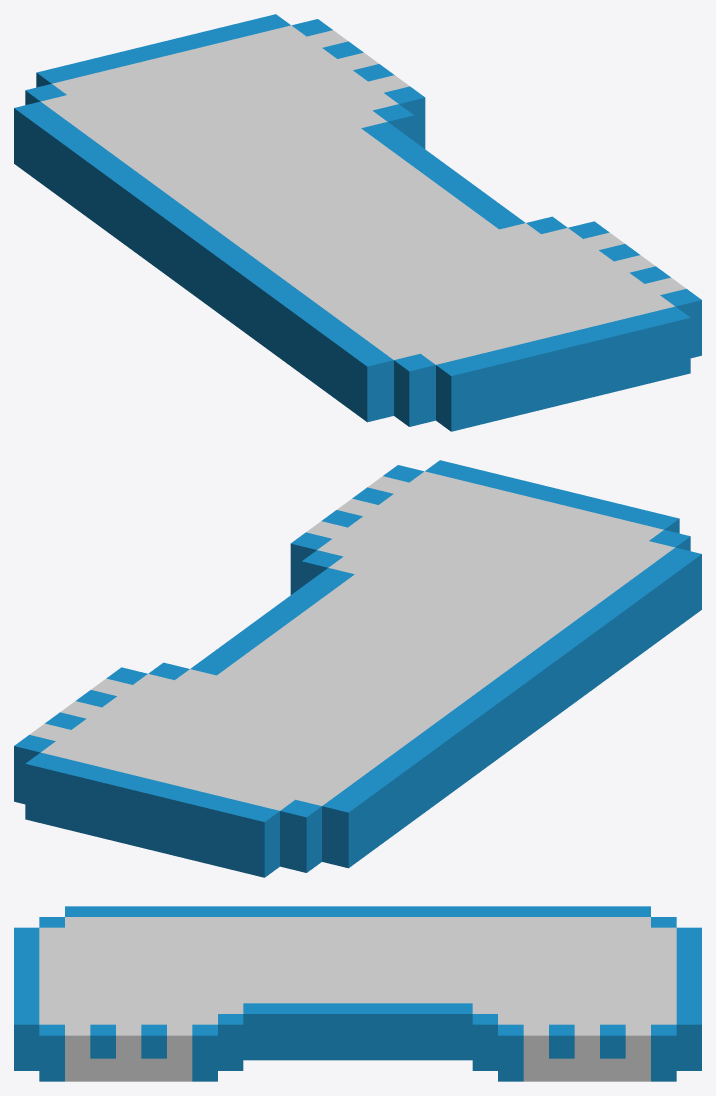
Rendered from PlatformAndBack.fbx.
The picture shows the model from 3 angles, top to bottom: view 1: azimuth 30°, elevation 25°; view 2: azimuth 150°, elevation 25°; view 3: azimuth 270°, elevation 25°; orthographic projection. The views are drawn at different scales.
Visible parts, largest first — view 1: Matrix_16; view 2: Matrix_16; view 3: Matrix_16.
Part boxes in pixels (<box>): Matrix_16: <box>14,14,701,431</box>; Matrix_16: <box>14,460,701,877</box>; Matrix_16: <box>14,906,701,1081</box>.
Bounding box in the file's own units: 12 × 2 × 27.
